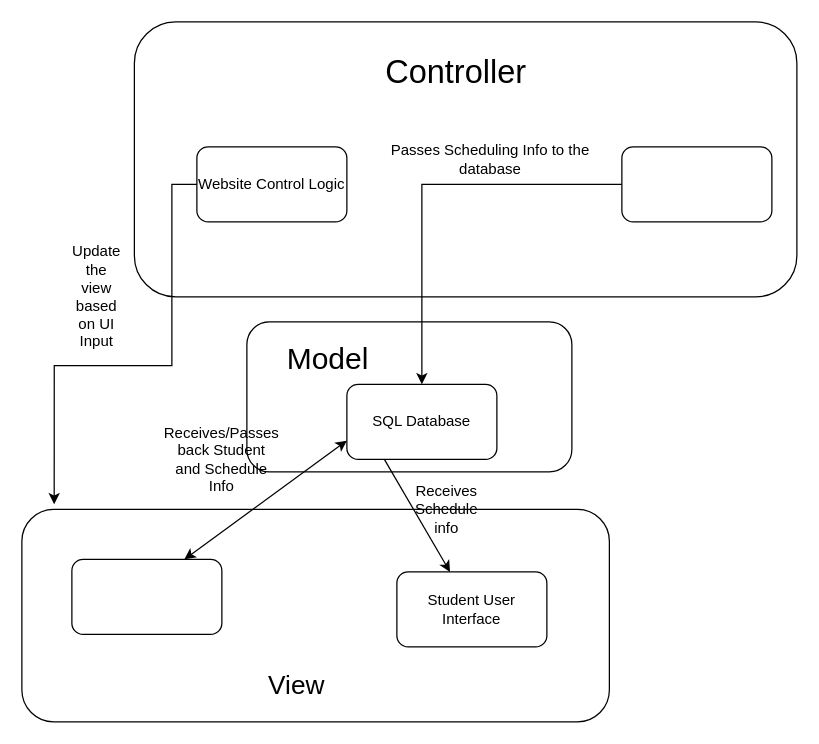
Image size: 819x744. Some labels were removed from this diagram. Each missing label, with the box of its shape:
Administrator User Interface: (71, 558, 222, 634)
Scheduling Module: (621, 146, 772, 222)
